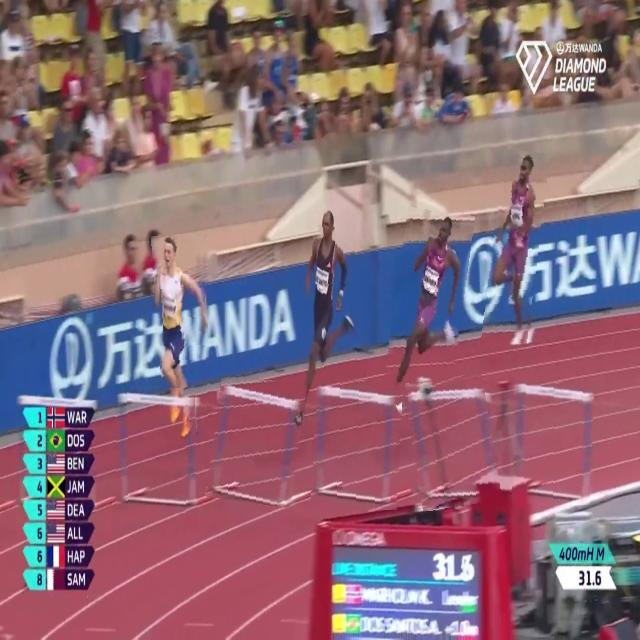athlete: (388, 209, 468, 417), (290, 210, 357, 416), (154, 234, 212, 442), (487, 149, 544, 346)
hurdle: (209, 377, 303, 505), (408, 375, 498, 508), (313, 378, 401, 509), (116, 388, 196, 513), (513, 381, 593, 504)
